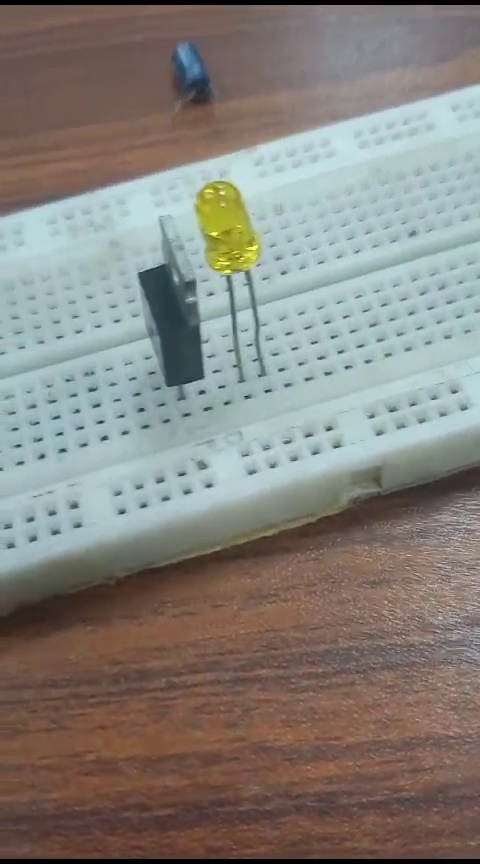LED: (191, 172, 267, 380)
voltage regulator: (120, 211, 200, 391)
